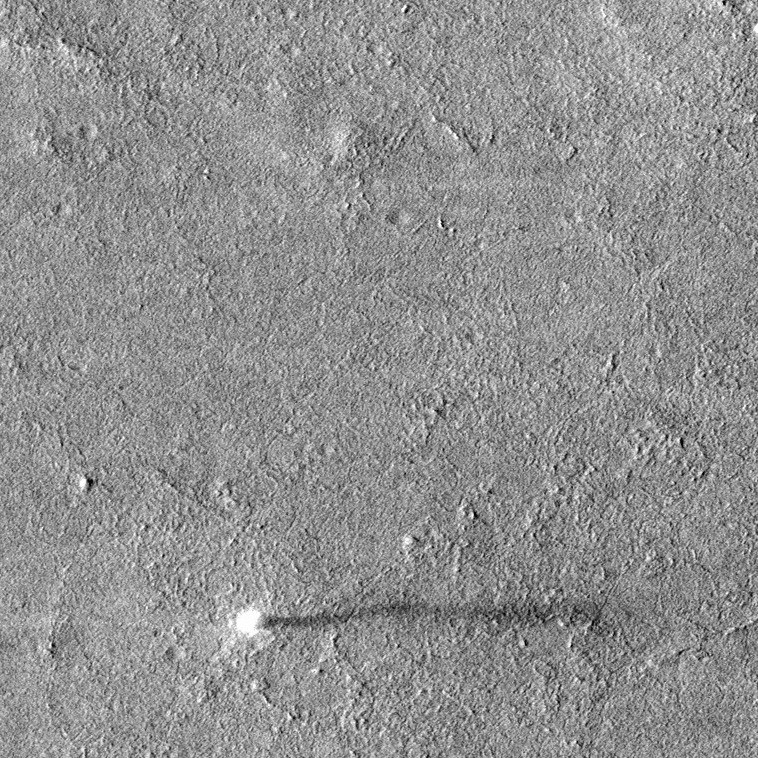dust_devil: (232, 597, 610, 642)
